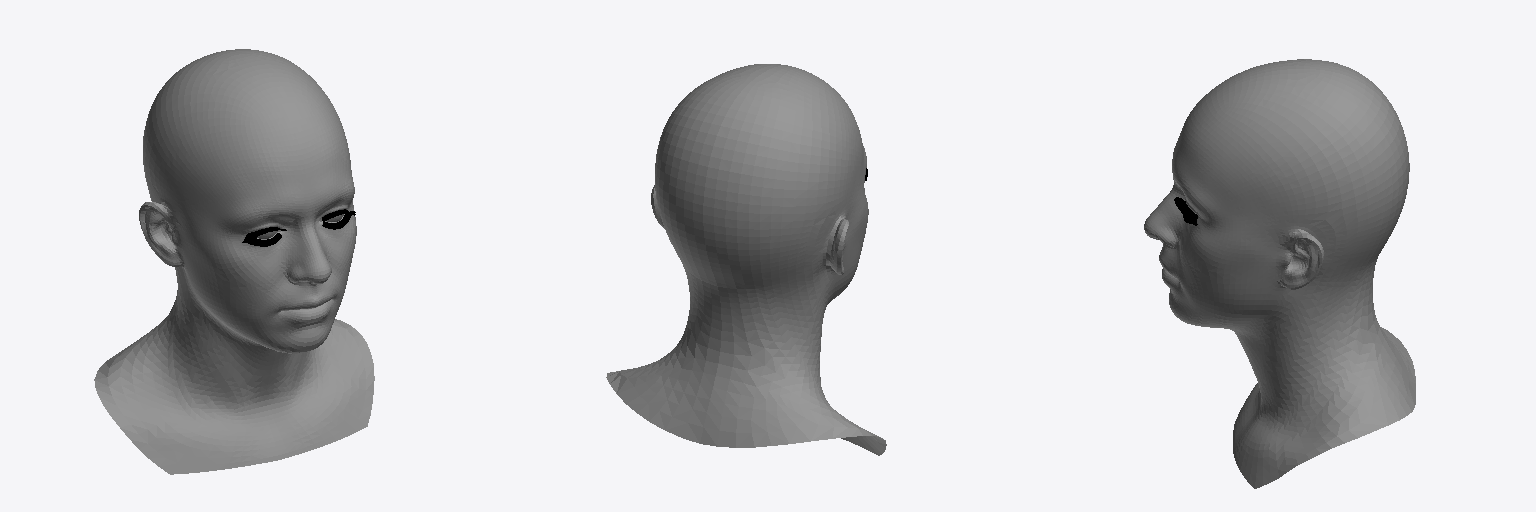
Rendered from identity066.obj.
3 renders of one model, left to right at view 1: azimuth 30°, elevation 25°; view 2: azimuth 150°, elevation 25°; view 3: azimuth 270°, elevation 25°, orthographic.
Size of the model in its own units: 24.84 by 33.81 by 22.29.